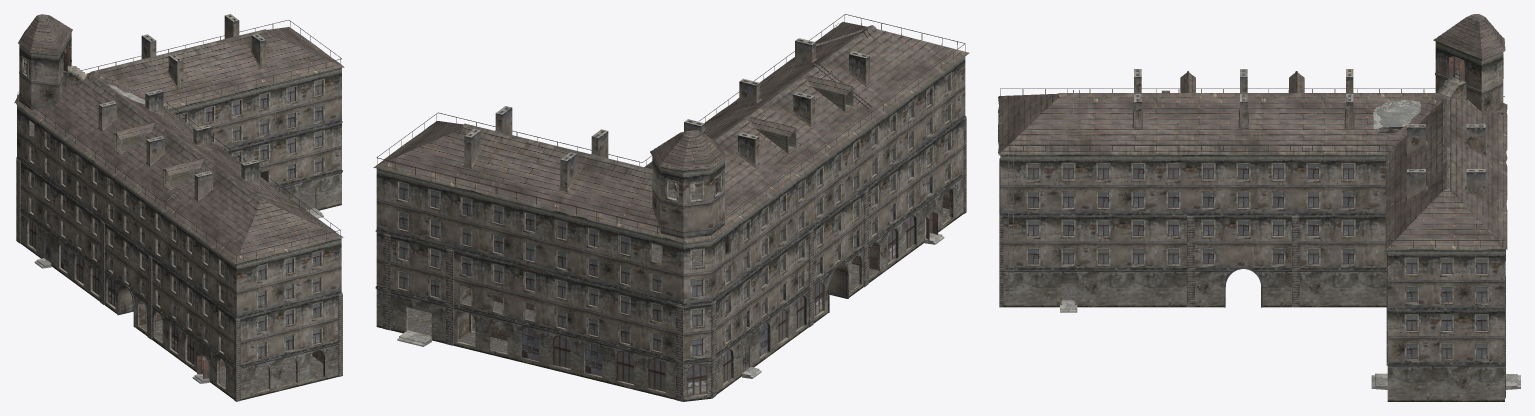
File: Building_City_03_4LOD1.FBX
The picture shows the model from 3 angles, left to right: view 1: azimuth 30°, elevation 25°; view 2: azimuth 150°, elevation 25°; view 3: azimuth 270°, elevation 25°; orthographic projection. The views are drawn at different scales.
Parts seen in each view (by area): view 1: Building_City_03_4_LOD1, Building_City_03_4Roof_LOD1, Building_City_03_4Frame_LOD1, Building_City_03_4Tube_LOD1; view 2: Building_City_03_4_LOD1, Building_City_03_4Roof_LOD1, Building_City_03_4Frame_LOD1, Building_City_03_4Tube_LOD1; view 3: Building_City_03_4_LOD1, Building_City_03_4Roof_LOD1, Building_City_03_4Frame_LOD1, Building_City_03_4Tube_LOD1.
Boxes of the visible parts, <box> form: Building_City_03_4_LOD1: <box>16,14,342,401</box>; Building_City_03_4Roof_LOD1: <box>14,20,344,264</box>; Building_City_03_4Frame_LOD1: <box>28,78,324,360</box>; Building_City_03_4Tube_LOD1: <box>98,14,265,199</box>; Building_City_03_4_LOD1: <box>375,57,966,401</box>; Building_City_03_4Roof_LOD1: <box>373,14,969,243</box>; Building_City_03_4Frame_LOD1: <box>396,71,951,359</box>; Building_City_03_4Tube_LOD1: <box>464,38,869,189</box>; Building_City_03_4_LOD1: <box>999,14,1520,401</box>; Building_City_03_4Roof_LOD1: <box>998,71,1507,250</box>; Building_City_03_4Frame_LOD1: <box>1026,162,1488,361</box>; Building_City_03_4Tube_LOD1: <box>1134,69,1485,199</box>.
Size of the model in its own units: 3703 by 5201 by 2719.
Materials: 7 (7 with a texture image).
